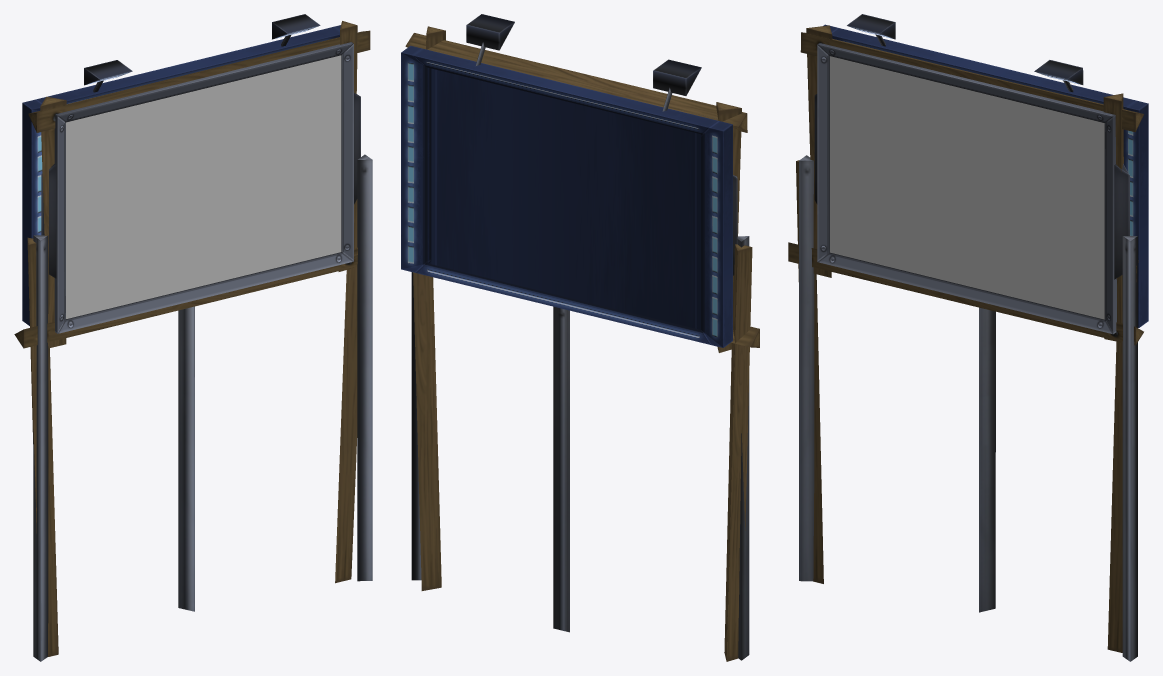
The model's file is Ae_Card.FBX.
The picture shows the model from 3 angles, left to right: view 1: azimuth 30°, elevation 25°; view 2: azimuth 150°, elevation 25°; view 3: azimuth 330°, elevation 25°; orthographic projection.
Visible parts, largest first — view 1: Ae_card02, Ae_card03, Ae_card01; view 2: Ae_card01, Ae_card03, Ae_card02; view 3: Ae_card02, Ae_card03, Ae_card01.
Boxes of the visible parts, left/top/right/bottom form: Ae_card02: left=33, top=42, right=372, bottom=661; Ae_card03: left=14, top=21, right=370, bottom=656; Ae_card01: left=22, top=14, right=340, bottom=611; Ae_card01: left=401, top=14, right=732, bottom=632; Ae_card03: left=405, top=26, right=759, bottom=661; Ae_card02: left=411, top=115, right=749, bottom=660; Ae_card02: left=799, top=43, right=1137, bottom=661; Ae_card03: left=788, top=25, right=1143, bottom=652; Ae_card01: left=823, top=14, right=1148, bottom=612.
Bounding box in the file's own units: 56.58 × 7.93 × 89.4.
